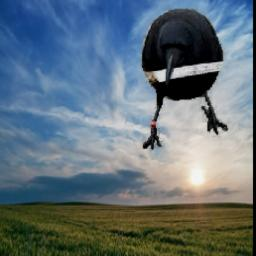Crow: (139, 9, 229, 152)
